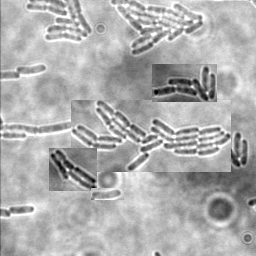Dividing: (8, 204, 35, 215)
Microcolony: (71, 100, 231, 172), (109, 1, 205, 56), (25, 1, 94, 44), (152, 64, 217, 102), (49, 148, 97, 191), (91, 188, 124, 200), (16, 63, 48, 74)
